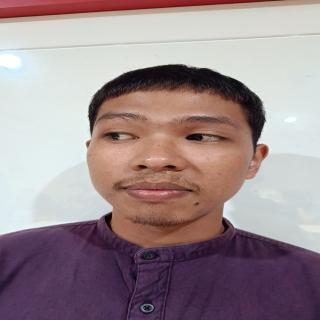Takut: (84, 84, 258, 233)
